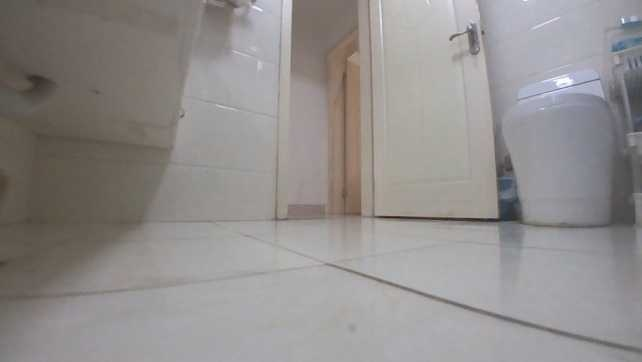door_anno: (364, 0, 500, 222)
toilet: (499, 68, 620, 227)
